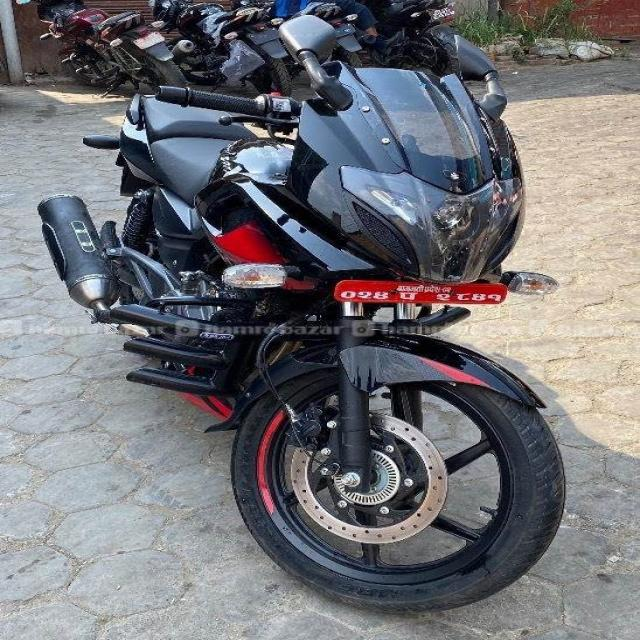License-plate: (339, 275, 514, 307)
